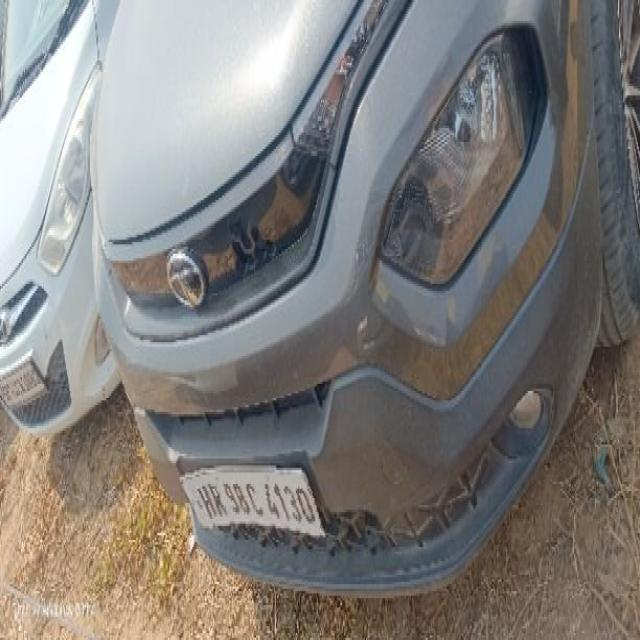license_plate: (88, 0, 638, 596), (180, 461, 324, 540), (0, 356, 45, 407)
